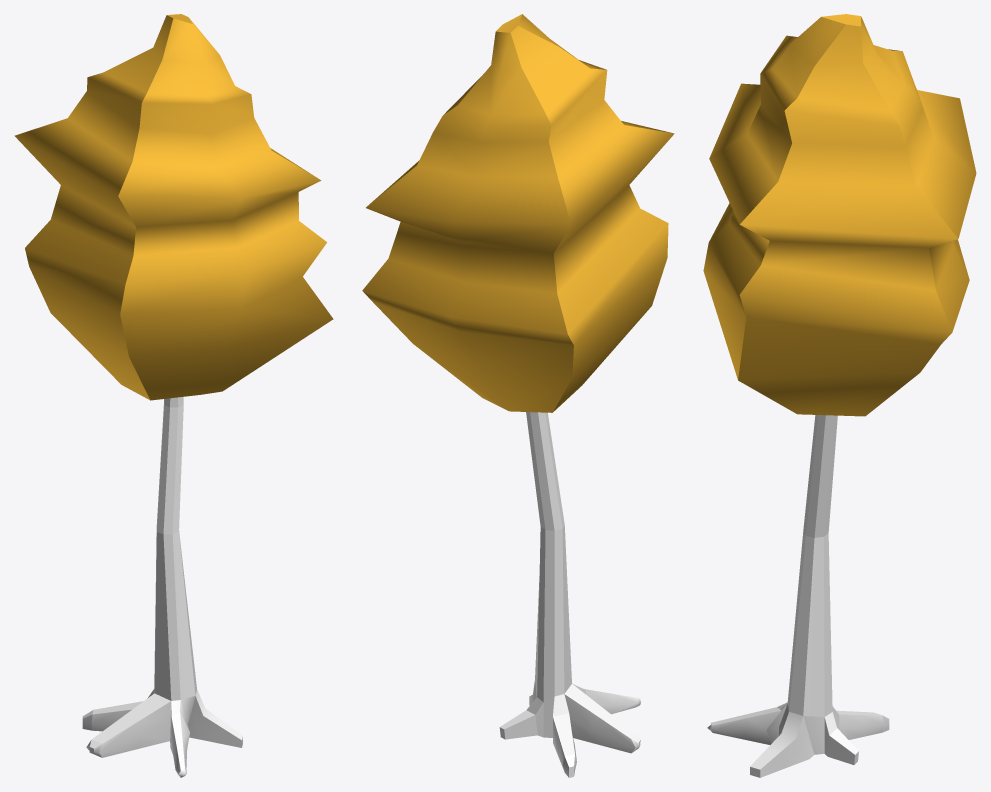
The picture shows the model from 3 angles, left to right: view 1: azimuth 30°, elevation 25°; view 2: azimuth 150°, elevation 25°; view 3: azimuth 270°, elevation 25°; orthographic projection. The views are drawn at different scales.
Parts seen in each view (by area): view 1: pCube5, tree_type02_01_geo; view 2: pCube5, tree_type02_01_geo; view 3: pCube5, tree_type02_01_geo.
Part boxes in pixels (box(x1,y1,x2,y2)): pCube5: box(14, 14, 333, 400); tree_type02_01_geo: box(82, 397, 242, 777); pCube5: box(362, 14, 674, 412); tree_type02_01_geo: box(499, 412, 640, 777); pCube5: box(703, 14, 976, 416); tree_type02_01_geo: box(707, 415, 889, 777).
Bounding box in the file's own units: 0.0123 × 0.0387 × 0.0127.
